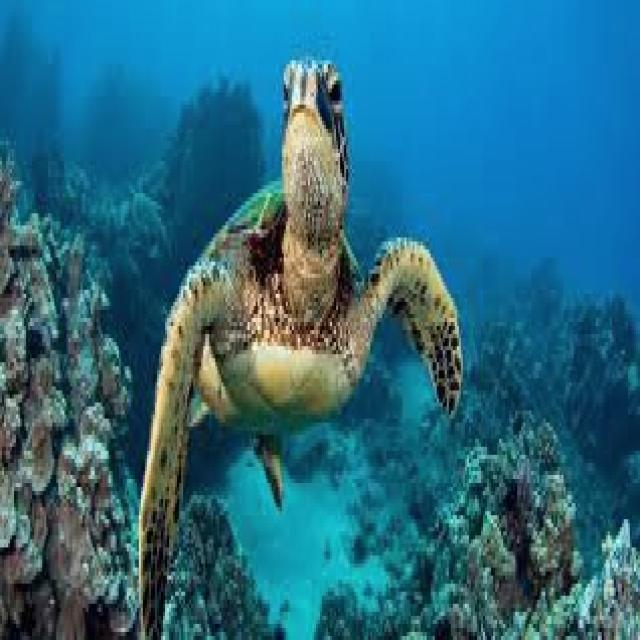turtle: (139, 60, 457, 636)
